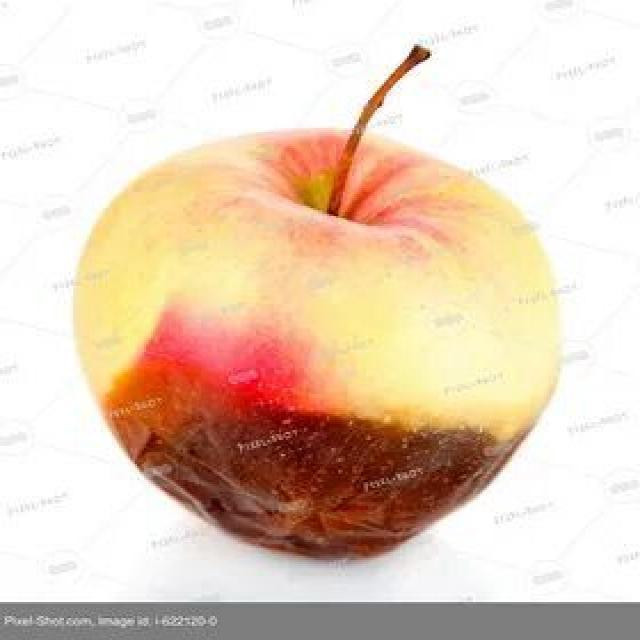Rotten: (105, 132, 550, 555)
